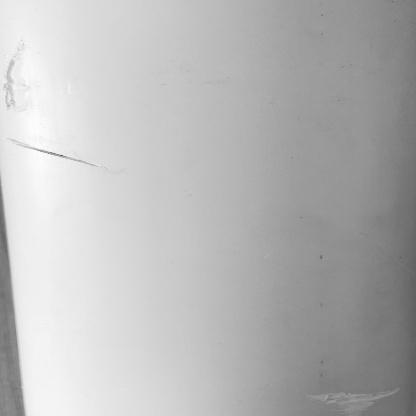sunshang: (5, 44, 105, 174), (301, 372, 406, 411)
